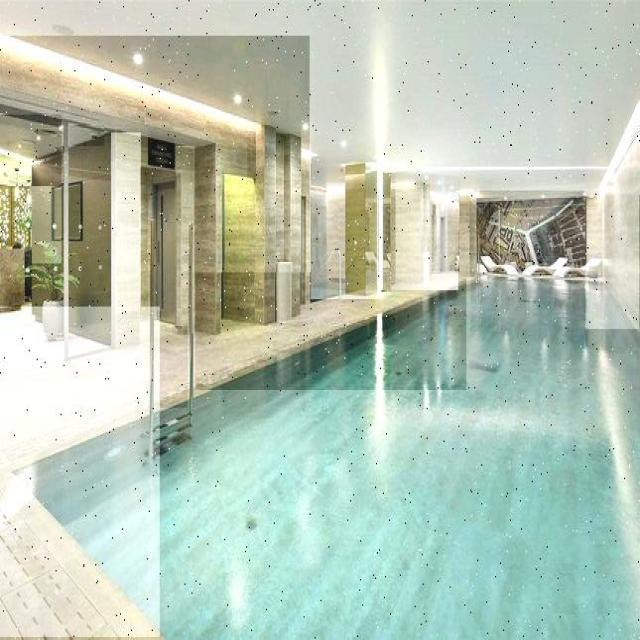Wall: (0, 0, 640, 195), (0, 36, 310, 332), (0, 307, 160, 637), (196, 273, 466, 390), (586, 104, 639, 328), (460, 192, 584, 275), (380, 169, 458, 290), (311, 163, 378, 299), (69, 135, 111, 345), (111, 133, 141, 350), (0, 115, 62, 186), (176, 147, 194, 333), (32, 154, 62, 263), (156, 326, 188, 408), (70, 126, 104, 145)
